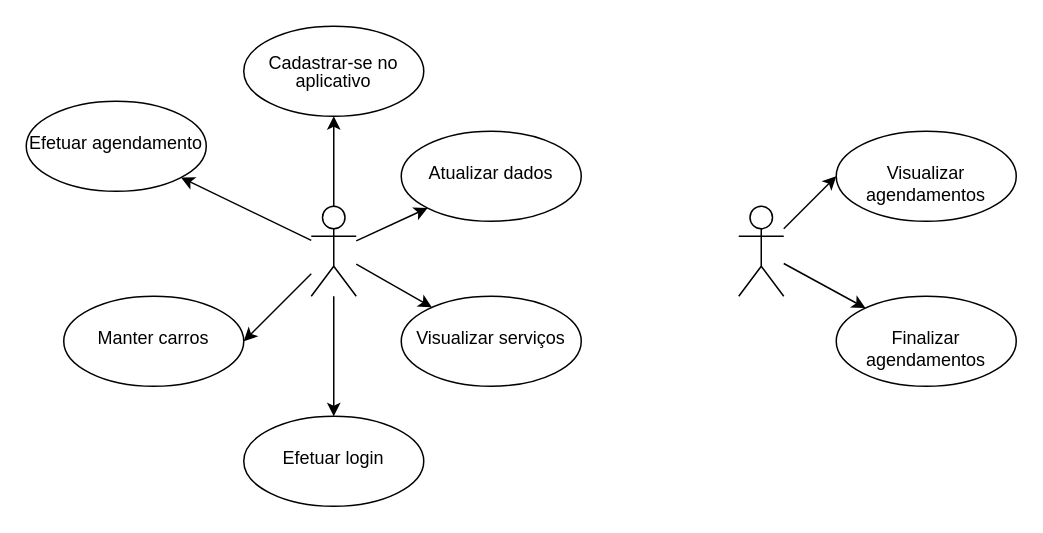
This 1043x533 diagram has some shape labels left out. The centre of each missing label's shape, as x and y in pixels:
Cliente: the point at 333,250
Funcionário: the point at 760,250
